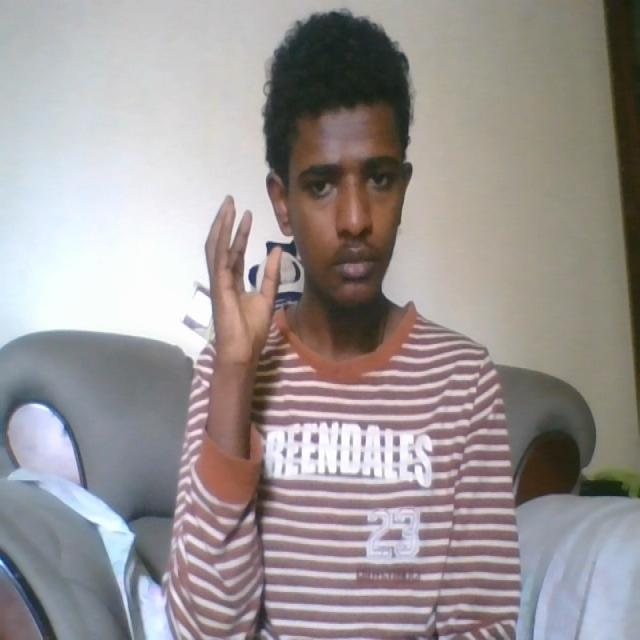menaded: (193, 185, 296, 379)
